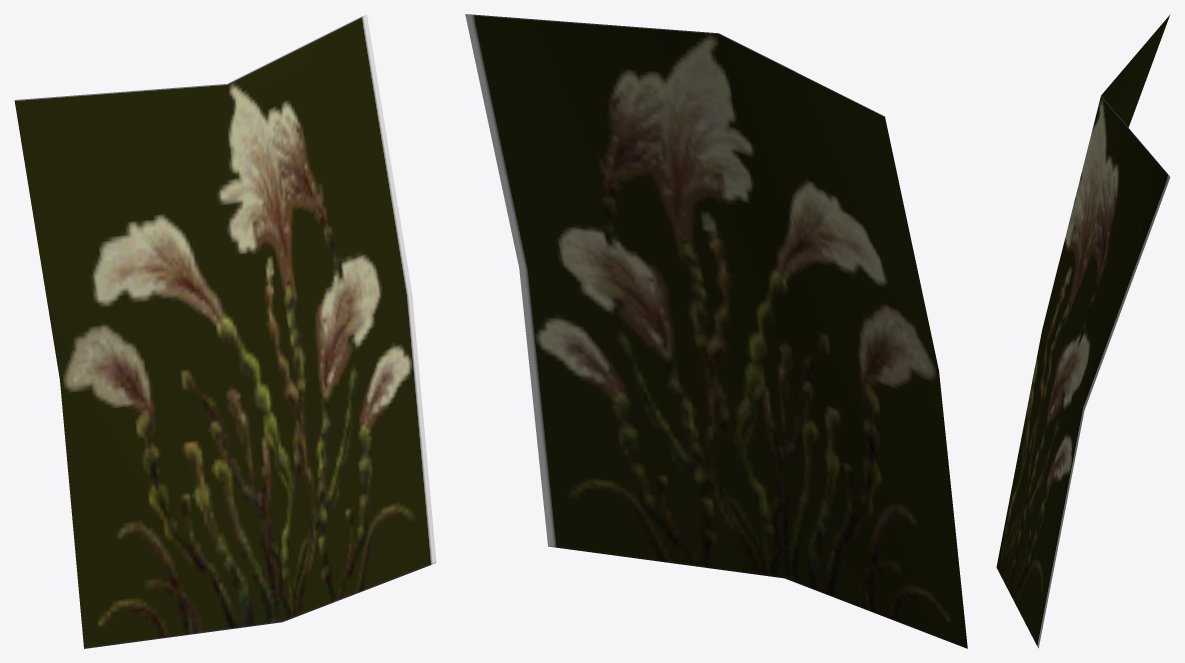
File: kqzd_zhiwu_2.FBX
3 renders of one model, left to right at view 1: azimuth 30°, elevation 25°; view 2: azimuth 150°, elevation 25°; view 3: azimuth 270°, elevation 25°, orthographic. The views are drawn at different scales.
Parts seen in each view (by area): view 1: kqzd_zhiwu_2; view 2: kqzd_zhiwu_2; view 3: kqzd_zhiwu_2.
Boxes of the visible parts, box(x1,y1,x2,y2) form: kqzd_zhiwu_2: box(14, 14, 436, 648); kqzd_zhiwu_2: box(465, 14, 967, 648); kqzd_zhiwu_2: box(996, 14, 1170, 648).
Size of the model in its own units: 71.78 by 32.39 by 96.93.
